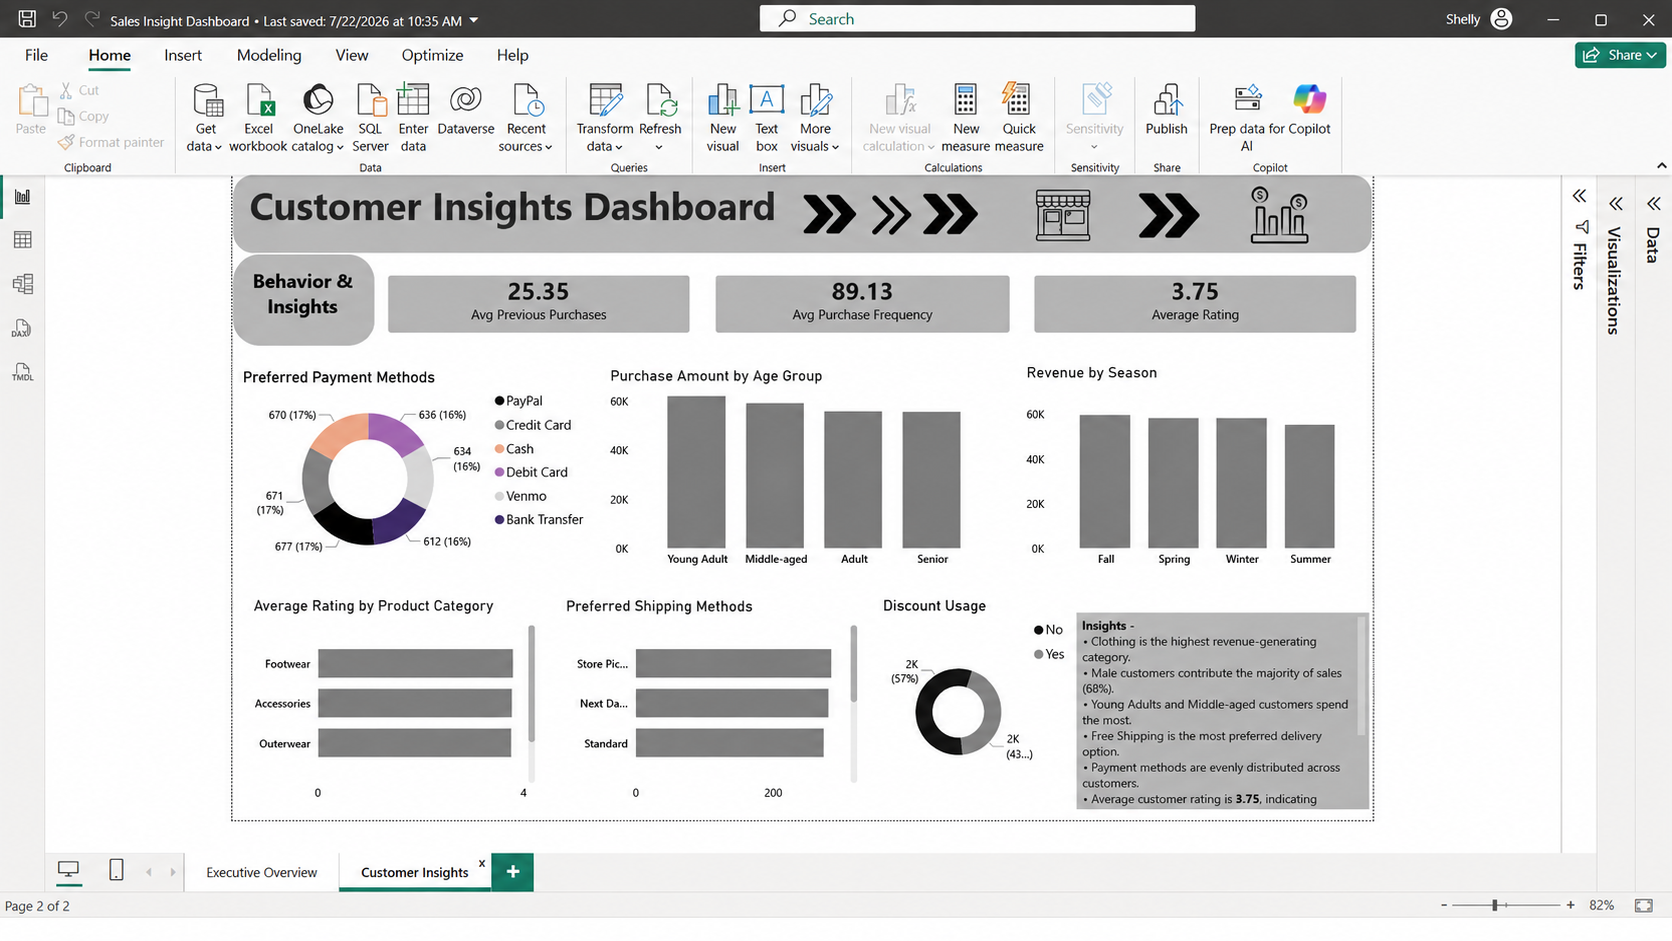

Layout of this report page (visuals, bound fields, positions):
{"tool":"powerbi","page":{"name":"Customer Insights","canvas":[1280,720],"ordinal":1},"visuals":[{"type":"cardVisual","fields":{"Data":["customers.Average Review Rating"]},"box":[886.8,97.9,389.8,92.4],"z":0},{"type":"shape","box":[0,0,1280.3,87.8],"z":2000},{"type":"textbox","box":[0,0,628.5,87.8],"z":3000},{"type":"image","box":[886.5,13.7,91.9,63.1],"z":4000},{"type":"image","box":[1141.7,6.9,67.2,75.5],"z":5000},{"type":"image","box":[775.3,0,61.7,87.8],"z":6000},{"type":"image","box":[640.8,12.3,59,63.1],"z":7000},{"type":"image","box":[661.4,6.9,156.4,75.5],"z":8000},{"type":"textbox","box":[67,414.5,220,150],"z":9000},{"type":"image","box":[1016.8,9.6,68.6,71.4],"z":10000},{"type":"donutChart","title":"Preferred Payment Methods","fields":{"Category":["customers.payment_method"],"Y":["customers.Total Customers"]},"box":[5.5,214.3,400.9,232.8],"z":11000},{"type":"clusteredColumnChart","title":"Purchase Amount by Age Group","fields":{"Category":["customers.age_group"],"Y":["Sum(customers.purchase_amount)"]},"box":[419.4,214.3,441.6,232.8],"z":13000},{"type":"shape","box":[0,89.3,160.2,101.5],"z":14000},{"type":"textbox","box":[6.1,97.8,143.1,74.6],"z":16000},{"type":"cardVisual","fields":{"Data":["customers.Avg PREVIOUS Purchases"]},"box":[160.7,97.9,367.7,92.4],"z":17000},{"type":"cardVisual","fields":{"Data":["customers.AVG Purchase Frequency"]},"box":[528.4,97.9,358.4,92.4],"z":18000},{"type":"columnChart","title":"Revenue by Season","fields":{"Category":["customers.season"],"Y":["Sum(customers.purchase_amount)"]},"box":[886.8,210.6,389.8,236.5],"z":23000},{"type":"clusteredBarChart","title":"Preferred Shipping Methods","fields":{"Category":["customers.shipping_type"],"Y":["customers.Total Customers"]},"box":[369.5,471.1,338.1,238.3],"z":24000},{"type":"donutChart","title":"Discount Usage","fields":{"Category":["customers.discount_applied"],"Y":["customers.Total Customers"]},"box":[726.1,471.1,221.7,240.2],"z":25000},{"type":"barChart","title":"Average Rating by Product Category","fields":{"Category":["customers.category"],"Y":["customers.Average Review Rating"]},"box":[18.5,471.1,327,238.3],"z":25001},{"type":"textbox","box":[948,471,329,240],"z":25002},{"type":"textbox","box":[947.7,489.1,328.9,220.1],"z":25003}]}

Visuals, with their boxes on the page's 1280x720 design canvas (x1, y1, x2, y2). These are canvas units, not pixel positions in the 1672x941 screenshot, which may show the page scaled, cropped or inside an application window:
cardVisual - customers.Average Review Rating: [887, 98, 1277, 190]
shape: [0, 0, 1280, 88]
textbox: [0, 0, 628, 88]
image: [886, 14, 978, 77]
image: [1142, 7, 1209, 82]
image: [775, 0, 837, 88]
image: [641, 12, 700, 75]
image: [661, 7, 818, 82]
textbox: [67, 414, 287, 564]
image: [1017, 10, 1085, 81]
"Preferred Payment Methods" donutChart: [6, 214, 406, 447]
"Purchase Amount by Age Group" clusteredColumnChart: [419, 214, 861, 447]
shape: [0, 89, 160, 191]
textbox: [6, 98, 149, 172]
cardVisual - customers.Avg PREVIOUS Purchases: [161, 98, 528, 190]
cardVisual - customers.AVG Purchase Frequency: [528, 98, 887, 190]
"Revenue by Season" columnChart: [887, 211, 1277, 447]
"Preferred Shipping Methods" clusteredBarChart: [370, 471, 708, 709]
"Discount Usage" donutChart: [726, 471, 948, 711]
"Average Rating by Product Category" barChart: [18, 471, 346, 709]
textbox: [948, 471, 1277, 711]
textbox: [948, 489, 1277, 709]
